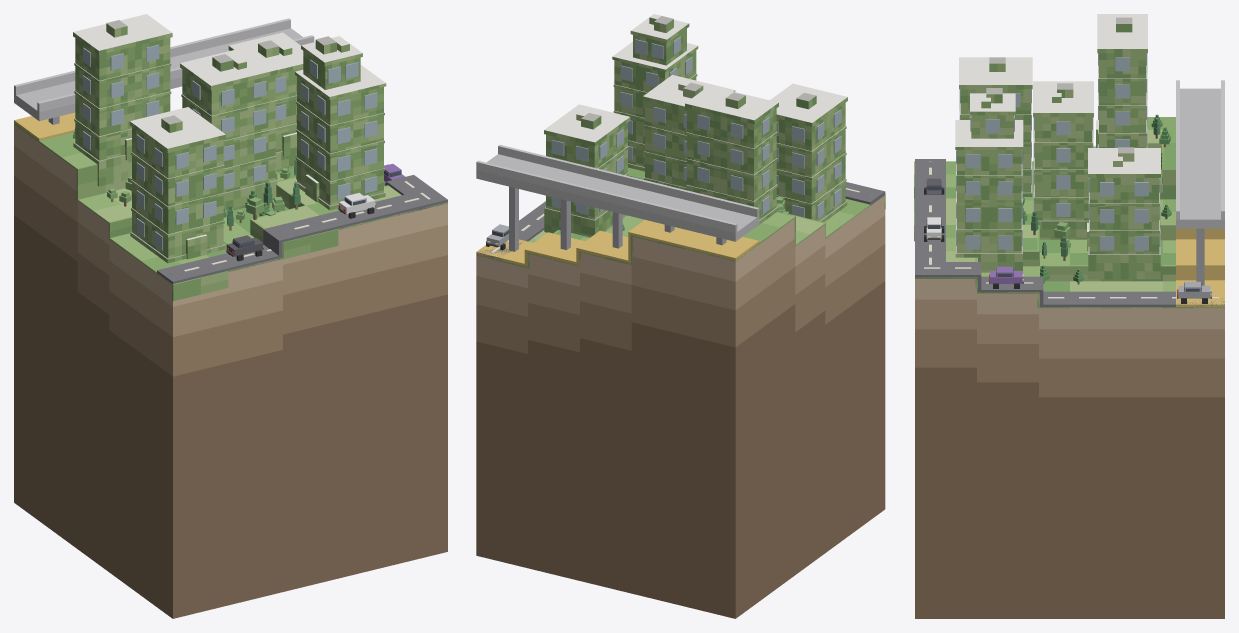
Rendered from block_7_greenfacade_50.glb.
3 views of the same model, side by side, from view 1: azimuth 30°, elevation 25°; view 2: azimuth 150°, elevation 25°; view 3: azimuth 270°, elevation 25° (orthographic). The views are drawn at different scales.
Parts seen in each view (by area): view 1: Patch_UpperLeft_b04_GF, Res_UL_09_GF, Res_UL_06_GF, Res_UL_05_GF, Res_UL_08_GF, Green_UpperLeft_j4_b04_GF, Roads_UpperLeft_b04_GF, Bridge_UpperLeft_b04_GF, Res_UL_07_GF, Paver_UpperLeft_b04_GF, ULCar_006_GF, ULCar_007_GF; view 2: Patch_UpperLeft_b04_GF, Bridge_UpperLeft_b04_GF, Res_UL_05_GF, Res_UL_06_GF, Res_UL_09_GF, Res_UL_07_GF, Paver_UpperLeft_b04_GF, Res_UL_08_GF, Green_UpperLeft_j4_b04_GF, Roads_UpperLeft_b04_GF; view 3: Patch_UpperLeft_b04_GF, Res_UL_09_GF, Res_UL_07_GF, Green_UpperLeft_j4_b04_GF, Res_UL_08_GF, Bridge_UpperLeft_b04_GF, Res_UL_05_GF, Roads_UpperLeft_b04_GF, Res_UL_06_GF, Paver_UpperLeft_b04_GF, ULCar_011_GF, ULCar_012_GF (+1 smaller).
Boxes of the visible parts, <box> form: Patch_UpperLeft_b04_GF: <box>14,124,447,618</box>; Res_UL_09_GF: <box>295,36,386,210</box>; Res_UL_06_GF: <box>129,107,225,263</box>; Res_UL_05_GF: <box>73,14,172,186</box>; Res_UL_08_GF: <box>180,47,277,211</box>; Green_UpperLeft_j4_b04_GF: <box>14,123,447,301</box>; Roads_UpperLeft_b04_GF: <box>157,175,447,283</box>; Bridge_UpperLeft_b04_GF: <box>14,18,314,124</box>; Res_UL_07_GF: <box>228,32,303,171</box>; Paver_UpperLeft_b04_GF: <box>14,112,75,141</box>; ULCar_006_GF: <box>226,235,263,261</box>; ULCar_007_GF: <box>338,193,375,218</box>; Patch_UpperLeft_b04_GF: <box>476,196,885,618</box>; Bridge_UpperLeft_b04_GF: <box>476,145,759,251</box>; Res_UL_05_GF: <box>685,85,778,228</box>; Res_UL_06_GF: <box>770,83,847,222</box>; Res_UL_09_GF: <box>612,14,698,171</box>; Res_UL_07_GF: <box>544,104,630,237</box>; Paver_UpperLeft_b04_GF: <box>476,220,759,267</box>; Res_UL_08_GF: <box>643,75,735,190</box>; Green_UpperLeft_j4_b04_GF: <box>476,167,885,268</box>; Roads_UpperLeft_b04_GF: <box>476,182,885,260</box>; Patch_UpperLeft_b04_GF: <box>915,279,1224,618</box>; Res_UL_09_GF: <box>955,88,1023,272</box>; Res_UL_07_GF: <box>1087,147,1160,279</box>; Green_UpperLeft_j4_b04_GF: <box>914,117,1224,308</box>; Res_UL_08_GF: <box>1033,81,1093,239</box>; Bridge_UpperLeft_b04_GF: <box>1176,80,1224,285</box>; Res_UL_05_GF: <box>1096,14,1147,147</box>; Roads_UpperLeft_b04_GF: <box>915,159,1224,308</box>; Res_UL_06_GF: <box>959,57,1032,196</box>; Paver_UpperLeft_b04_GF: <box>1176,228,1224,308</box>; ULCar_011_GF: <box>1177,281,1211,303</box>; ULCar_012_GF: <box>989,266,1023,288</box>.
Size of the model in its own units: 9.5 by 16.62 by 9.53.
